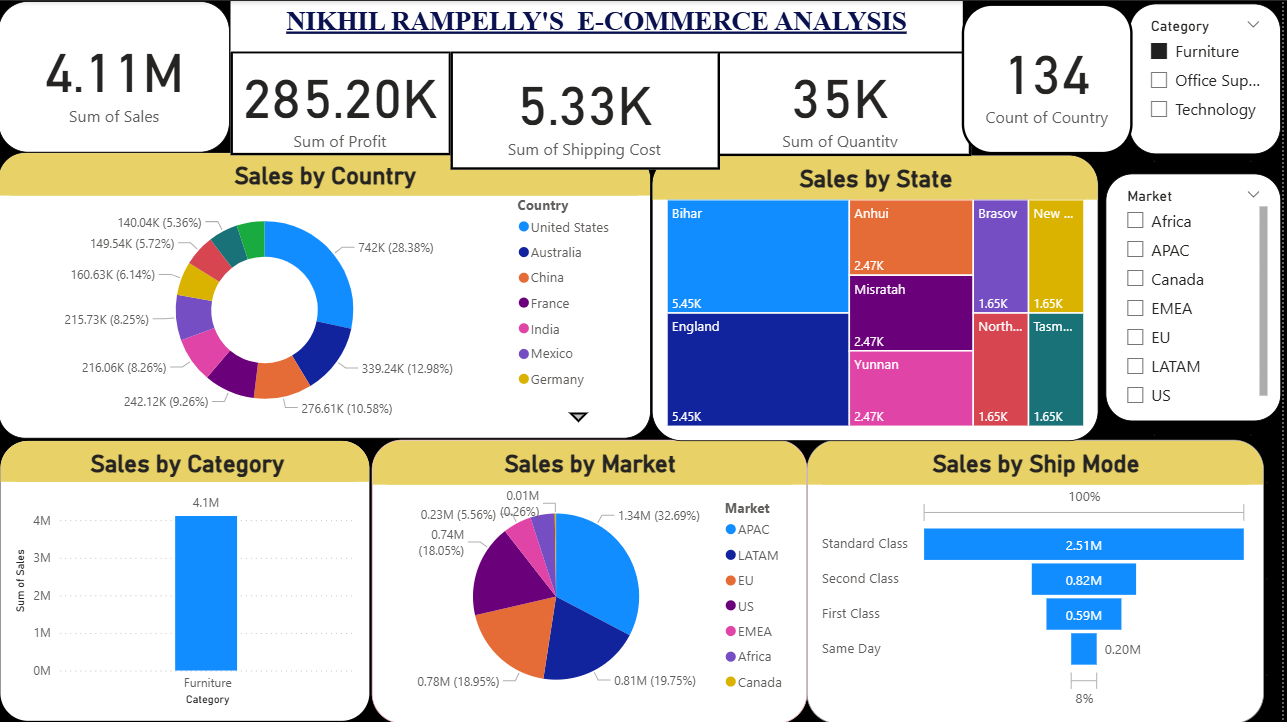

The dashboard page shown, as its layout file describes it:
{"tool":"powerbi","page":{"name":"Page 1","canvas":[1280,720],"ordinal":0},"visuals":[{"type":"clusteredColumnChart","title":"Sales by Category","fields":{"Category":["Orders.Category"],"Y":["Sum(Orders.Sales)"]},"box":[0,436.6,373.2,283.6],"z":0},{"type":"pieChart","title":" Sales by Market","fields":{"Category":["Orders.Market"],"Y":["Sum(Orders.Sales)"]},"box":[372.9,437.1,434.3,282.9],"z":1000},{"type":"funnel","title":"Sales by Ship Mode","fields":{"Y":["Sum(Orders.Sales)"],"Category":["Orders.Ship Mode"]},"box":[807.1,437.1,455.7,282.9],"z":2000},{"type":"donutChart","title":" Sales by Country","fields":{"Category":["Orders.Country"],"Y":["Sum(Orders.Sales)"]},"box":[0,151.4,651.4,285.7],"z":3000},{"type":"treemap","title":"Sales by State","fields":{"Group":["Orders.State"],"Values":["Sum(Orders.Sales)"]},"box":[651.4,152.9,445.7,285.7],"z":4000},{"type":"card","fields":{"Values":["Sum(Orders.Profit)"]},"box":[231.4,50,220,104.3],"z":4500},{"type":"card","fields":{"Values":["Sum(Orders.Sales)"]},"box":[0,0,231.4,151.4],"z":5000},{"type":"card","fields":{"Values":["Sum(Orders.Quantity)"]},"box":[710.3,49.8,260,104.5],"z":6000},{"type":"card","fields":{"Values":["Sum(Orders.Shipping Cost)"]},"box":[451.4,50,268.6,118.6],"z":7000},{"type":"slicer","fields":{"Values":["Orders.Market"]},"box":[1104.6,171.7,175.4,247.5],"z":9000},{"type":"slicer","fields":{"Values":["Orders.Category"]},"box":[1128.6,2.9,151.4,150],"z":10000},{"type":"textbox","box":[231.4,0,730,50],"z":11000},{"type":"card","fields":{"Values":["Count(Orders.Country)"]},"box":[961.4,2.9,170,150],"z":12000}]}

Visuals, with their boxes in screenshot pixels (x1, y1, x2, y2), scaled from the page's 1280x720 canvas onto the 1287x722 screenshot:
"Sales by Category" clusteredColumnChart: (x1=0, y1=438, x2=375, y2=721)
" Sales by Market" pieChart: (x1=375, y1=438, x2=812, y2=721)
"Sales by Ship Mode" funnel: (x1=812, y1=438, x2=1270, y2=721)
" Sales by Country" donutChart: (x1=0, y1=152, x2=655, y2=438)
"Sales by State" treemap: (x1=655, y1=153, x2=1103, y2=440)
card - Sum(Orders.Profit): (x1=233, y1=50, x2=454, y2=155)
card - Sum(Orders.Sales): (x1=0, y1=0, x2=233, y2=152)
card - Sum(Orders.Quantity): (x1=714, y1=50, x2=976, y2=155)
card - Sum(Orders.Shipping Cost): (x1=454, y1=50, x2=724, y2=169)
slicer - Orders.Market: (x1=1111, y1=172, x2=1286, y2=420)
slicer - Orders.Category: (x1=1135, y1=3, x2=1286, y2=153)
textbox: (x1=233, y1=0, x2=967, y2=50)
card - Count(Orders.Country): (x1=967, y1=3, x2=1138, y2=153)
